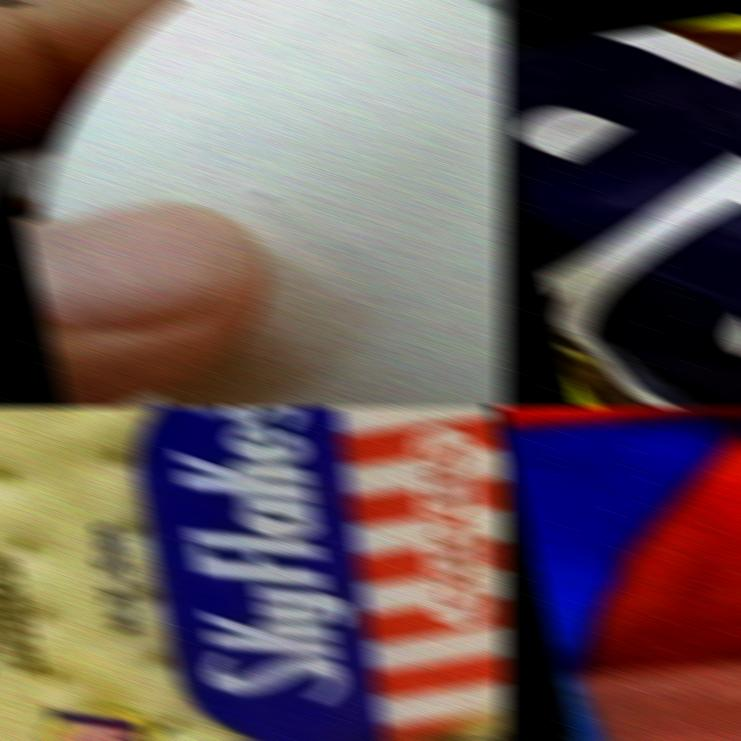Moby Caramel: (499, 16, 741, 408)
colgate: (499, 406, 741, 741)
egg: (0, 0, 507, 408)
sky flakes: (0, 406, 507, 741)
